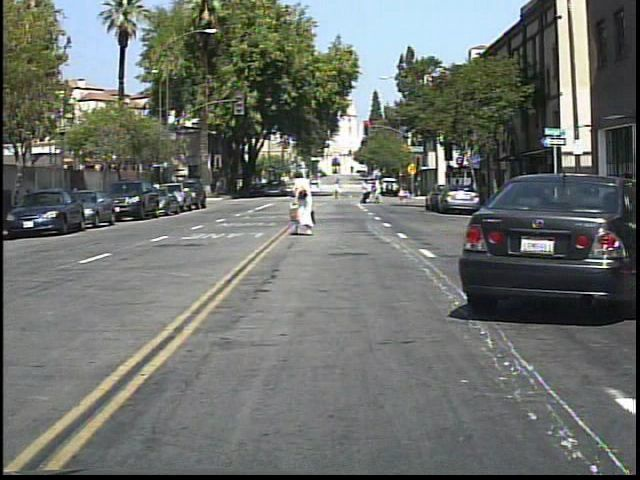person: (287, 166, 322, 239), (513, 167, 535, 225), (619, 164, 638, 229), (357, 177, 375, 207), (373, 177, 386, 205)
